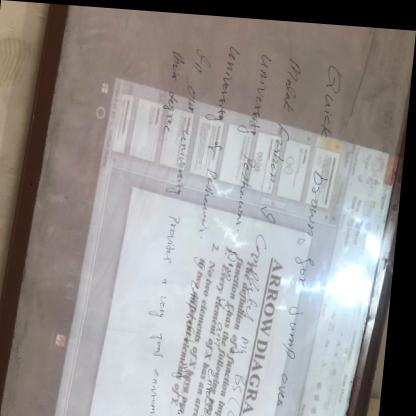Handwritten text: (264, 41, 358, 416), (224, 29, 315, 416), (192, 23, 281, 416), (163, 24, 249, 416), (137, 28, 214, 416), (154, 17, 190, 146)
